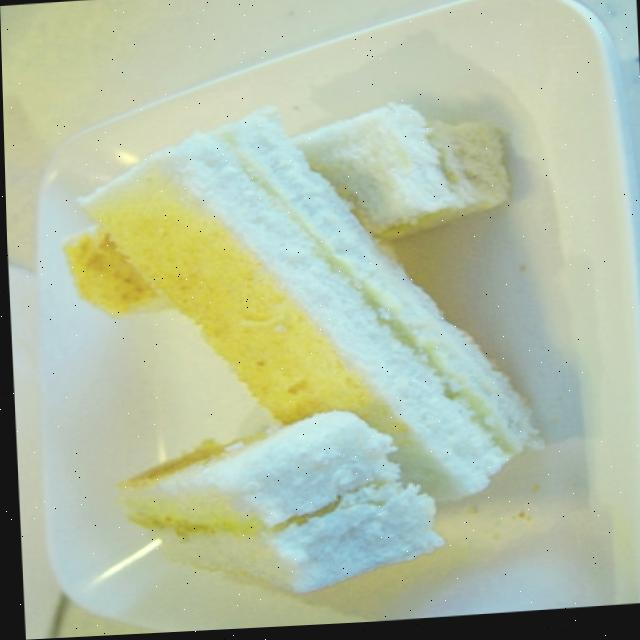面包点心: (21, 68, 572, 615)
